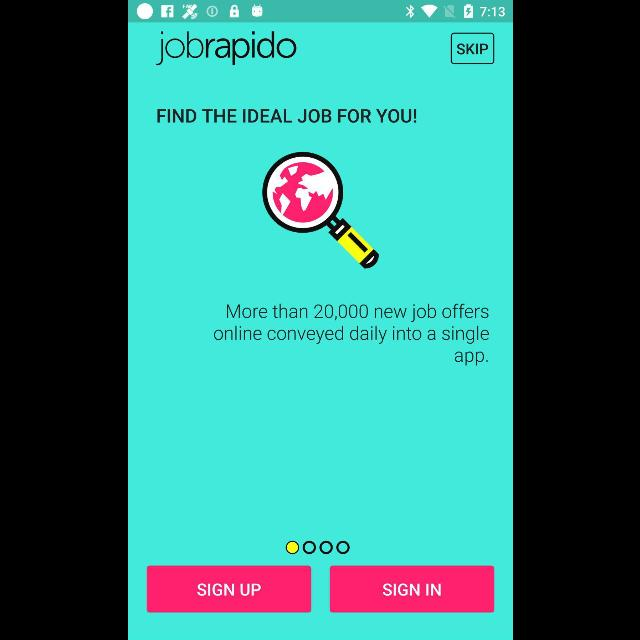image: (262, 152, 378, 268)
pageindicator: (284, 540, 350, 554)
text: (213, 304, 489, 366), (156, 32, 296, 66), (157, 109, 416, 123)
textbutton: (146, 566, 310, 612), (330, 566, 494, 612), (450, 33, 494, 65)
uppertaskbar: (128, 1, 512, 23)
